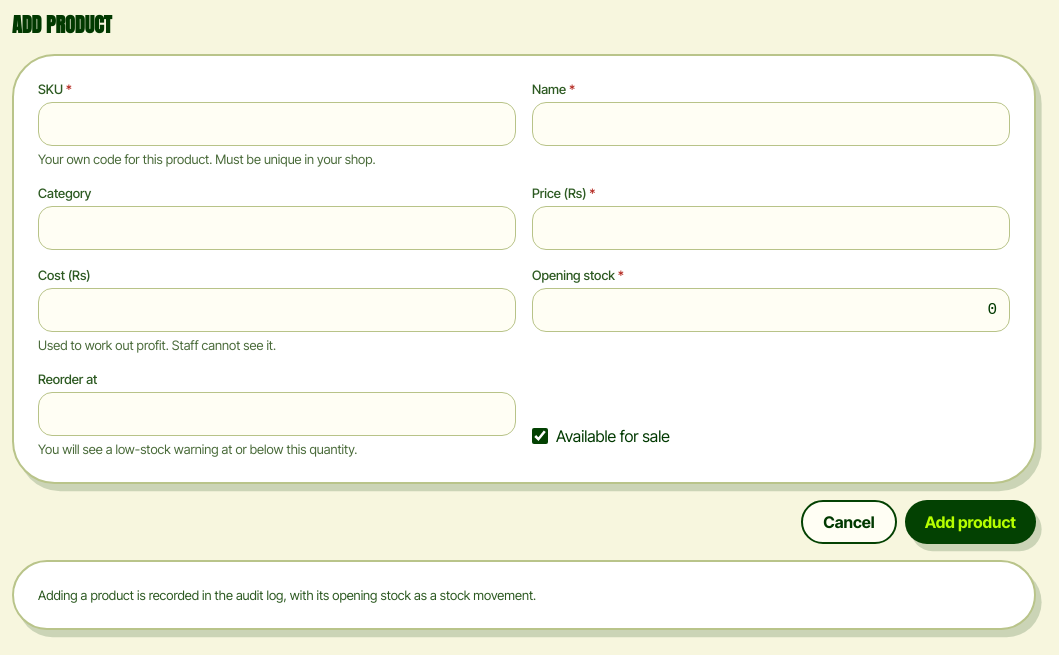
Scenario: ProductForm (task 52: validation, errors, double-submit) › puts the server's duplicate-SKU message under the SKU field
In the field labelled "SKU *": [277, 124] box [38,102,516,146], type "SKU-1"
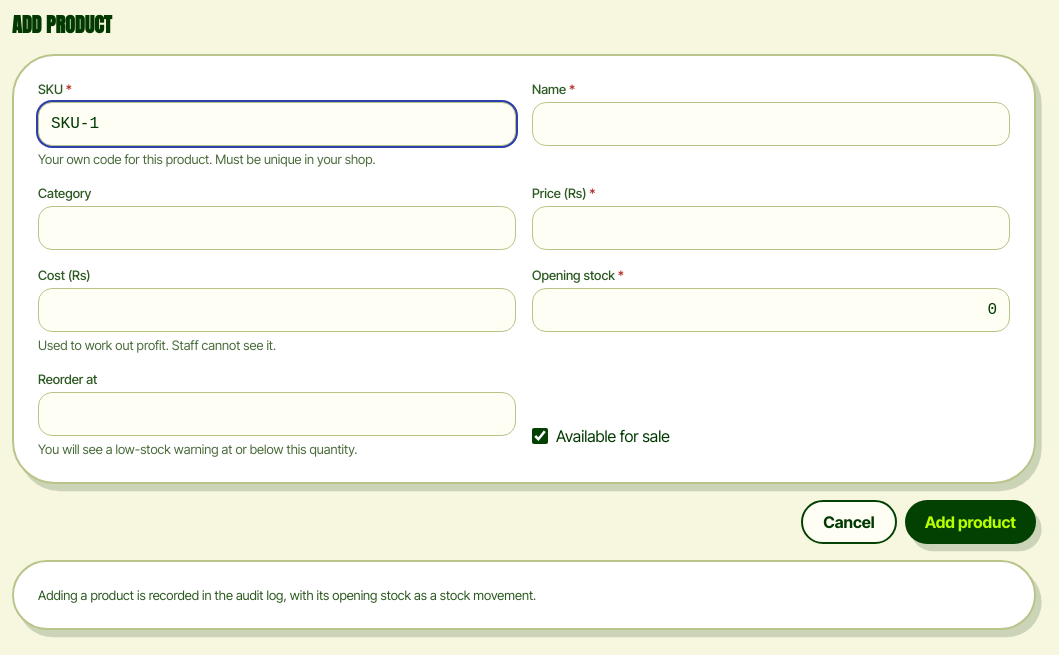
In the field labelled "Name *": [771, 124] box [532,102,1010,146], type "Classic Shirt"
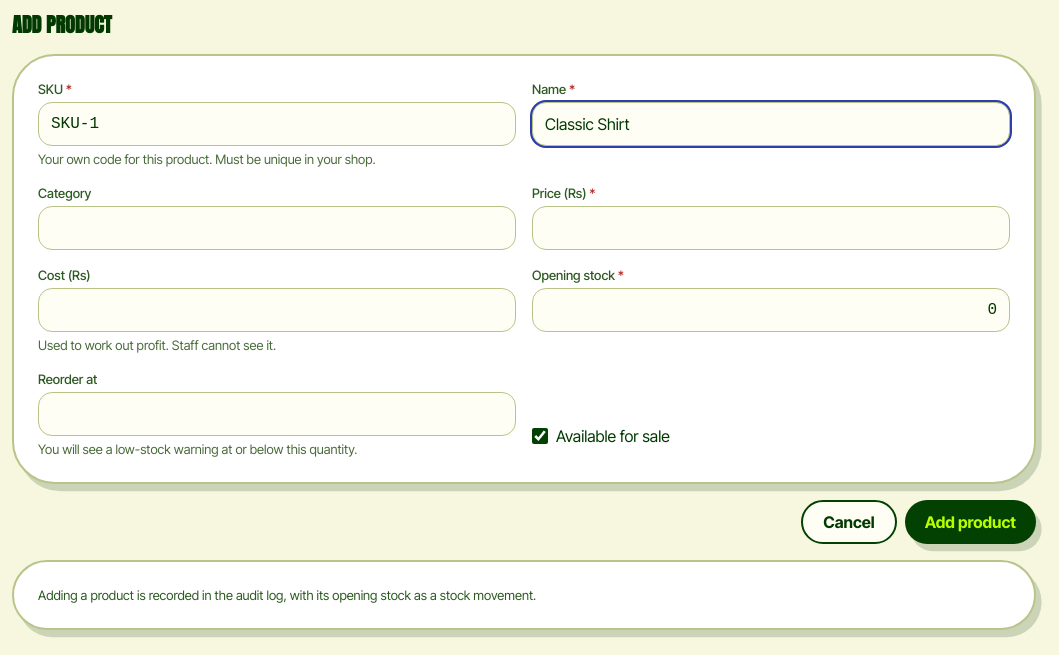
In the field labelled "Price (Rs) *": [771, 228] box [532,206,1010,250], type "2500"
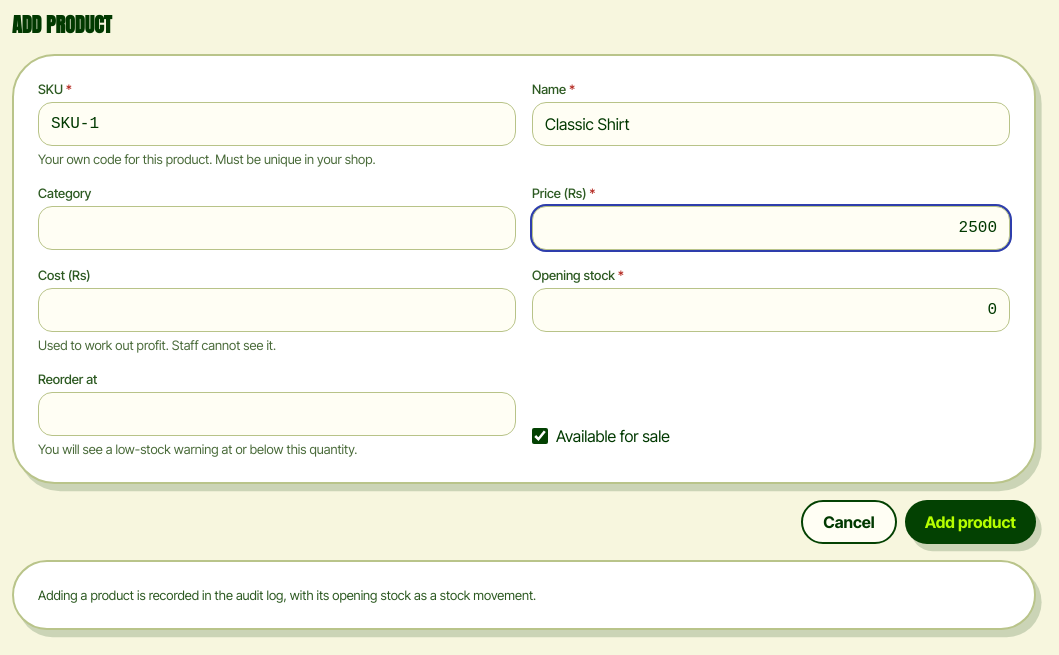
Click the button "Add product": [970, 522] box [905,500,1036,544]
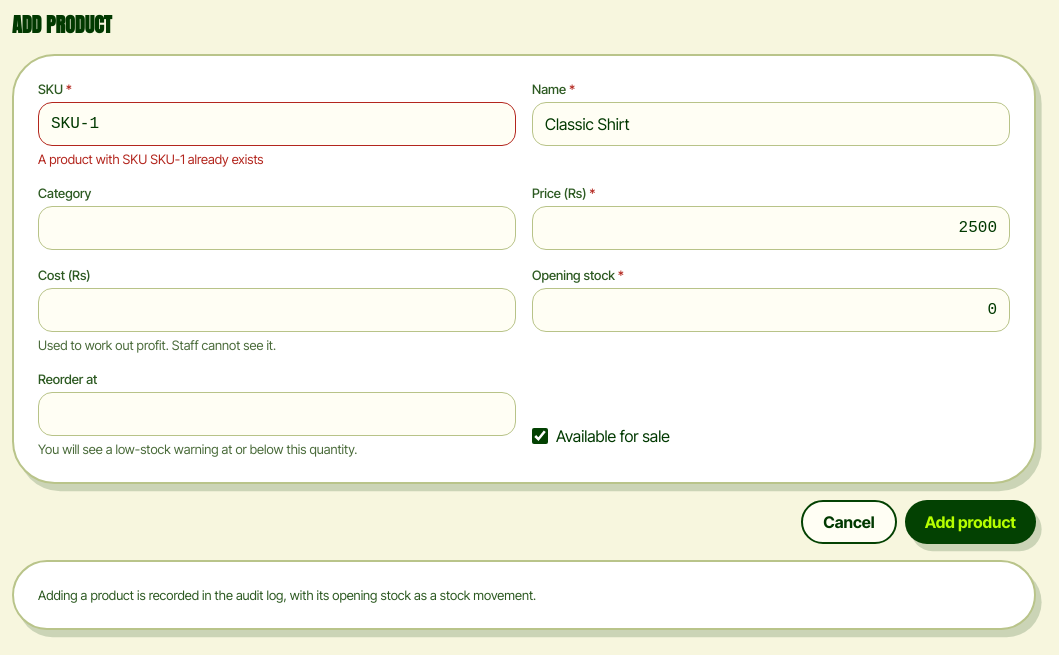
Result: the text "A product with SKU SKU-1 already exists" is shown at [38,151,264,167]
